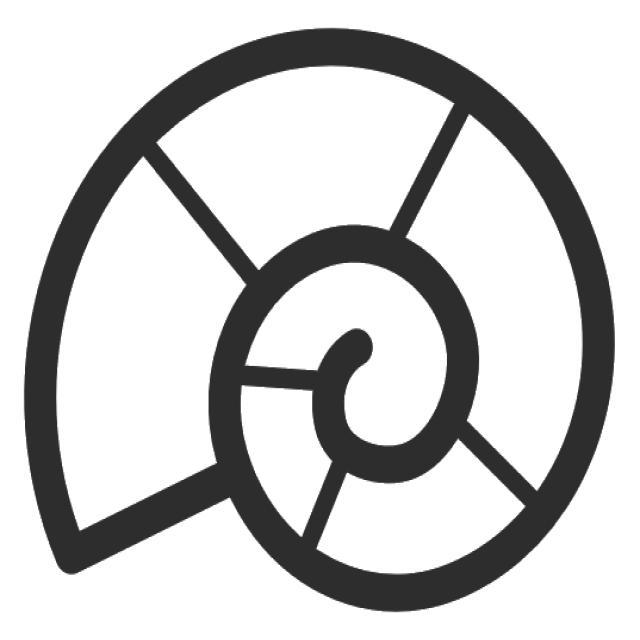fossil: (13, 21, 626, 622)
